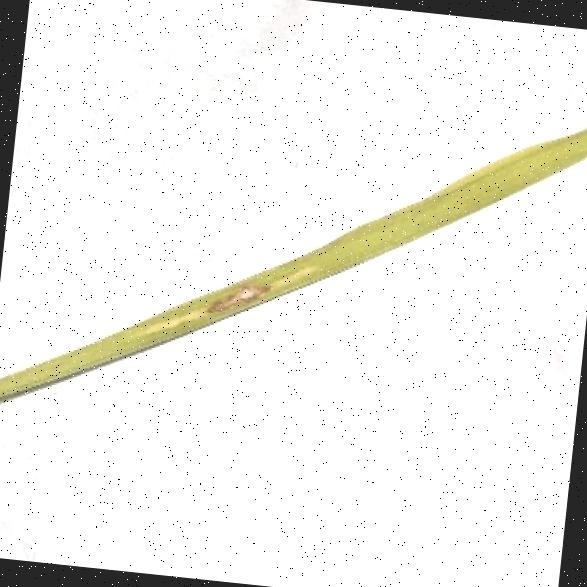Leaf_smut: (144, 243, 319, 348)
